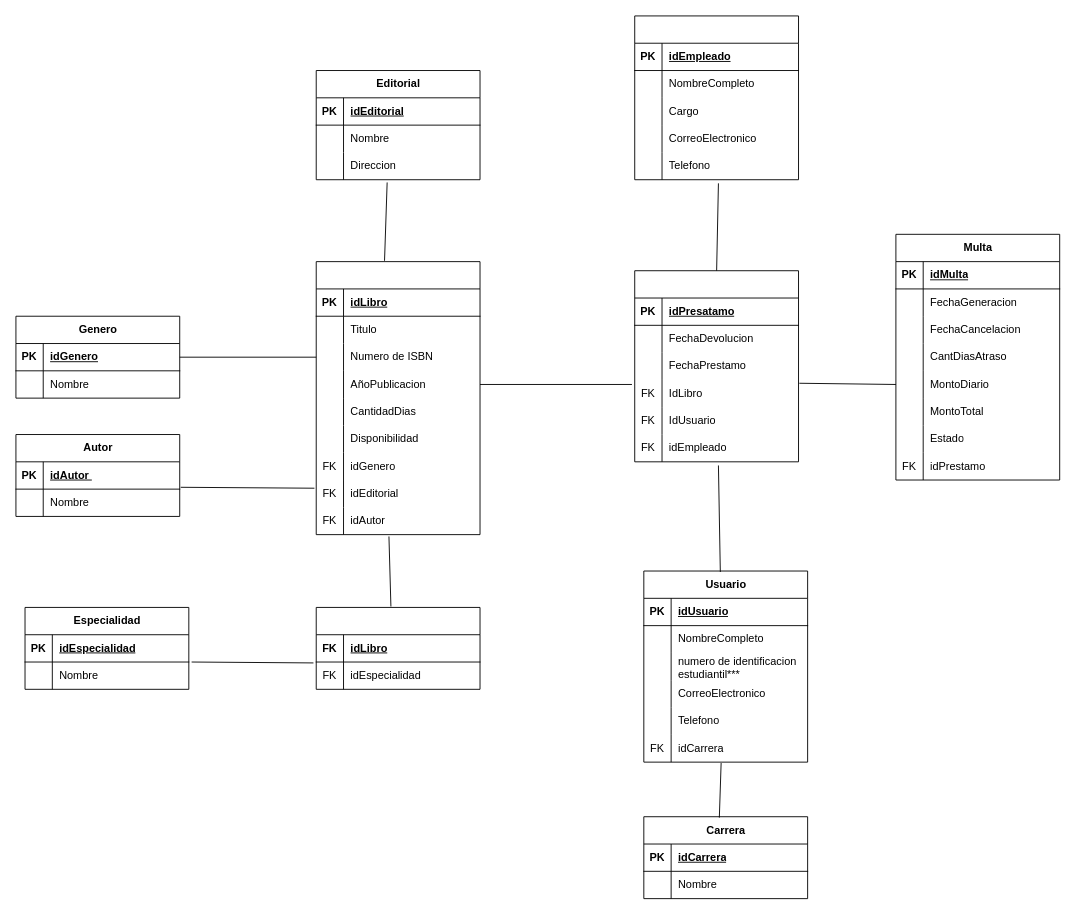
Image size: 1076x915. Some labels were removed from this diagram. The box of each missing label's shape, as (x1, y1, x2, y2) in pixels:
LibroEspecialidad: (315, 607, 480, 689)
Libros: (315, 261, 480, 535)
Personal biblio: (634, 15, 799, 180)
Prestamos: (634, 270, 799, 462)
